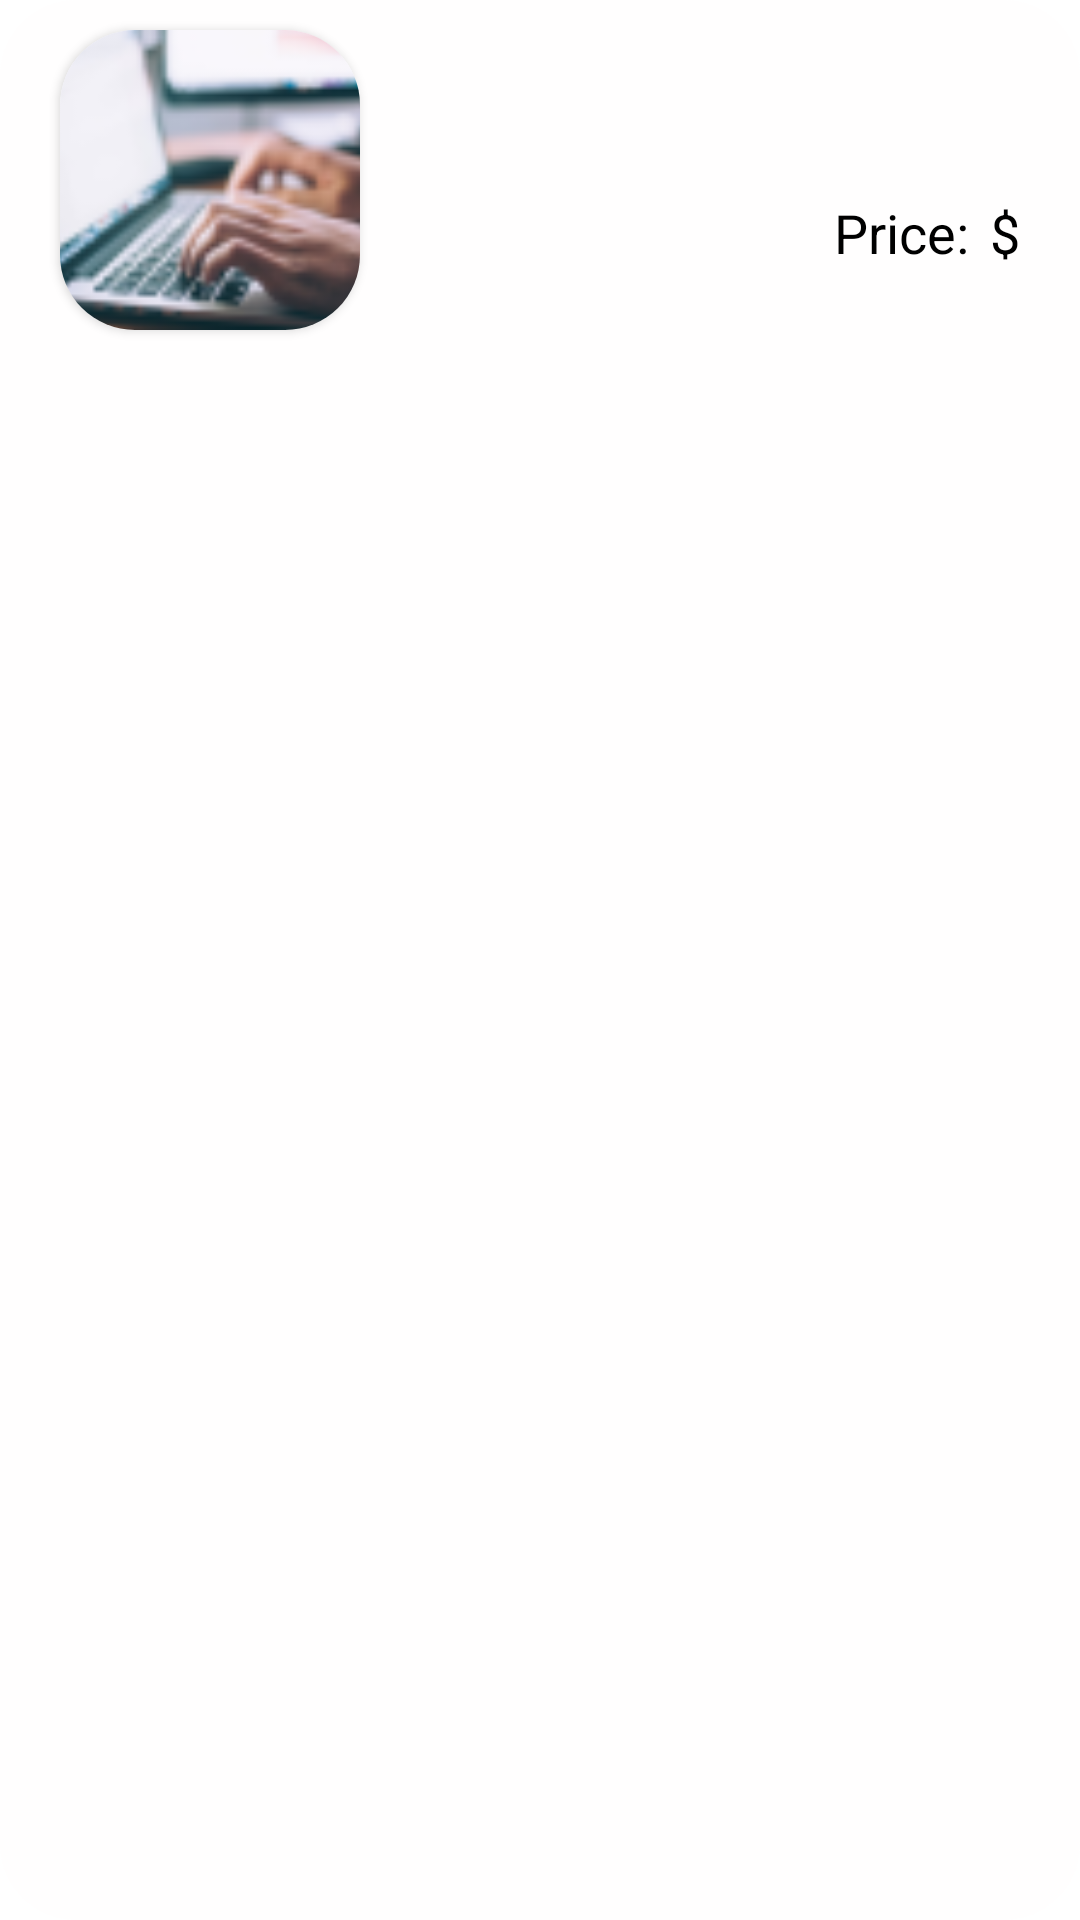

Where icons sit on this 1080×1920 app screen, as (x1, y1, x2, y2):
course: (60, 30, 360, 330)
